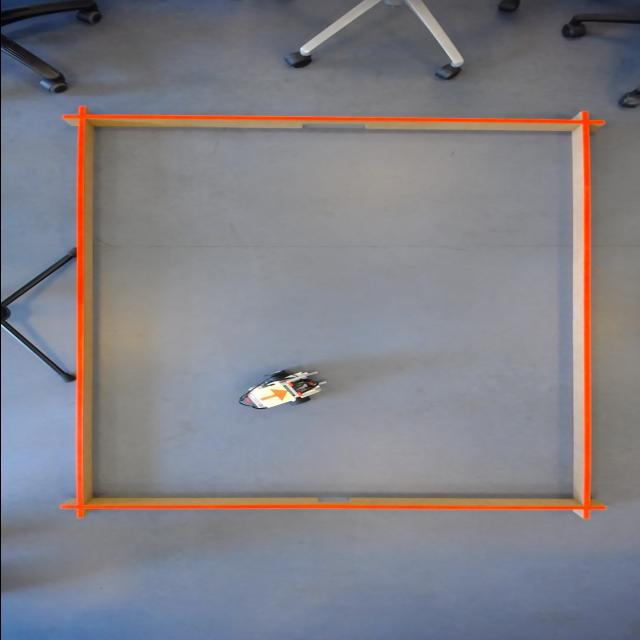robot: (251, 381, 295, 410)
